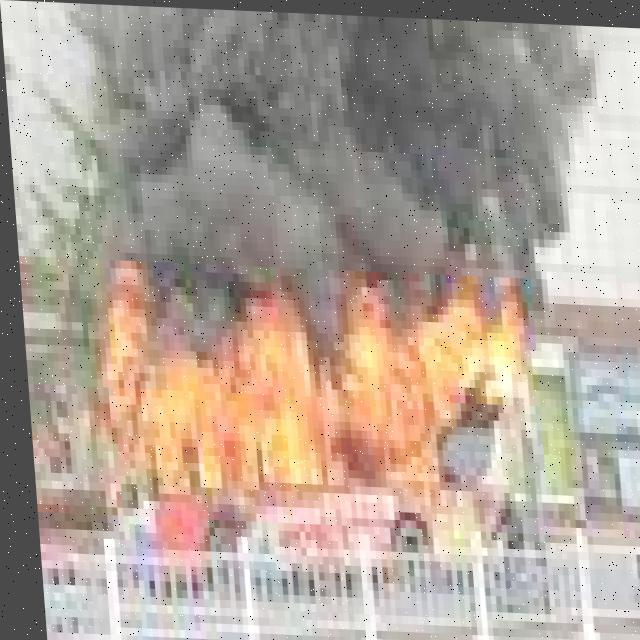Fire: (71, 226, 526, 537)
